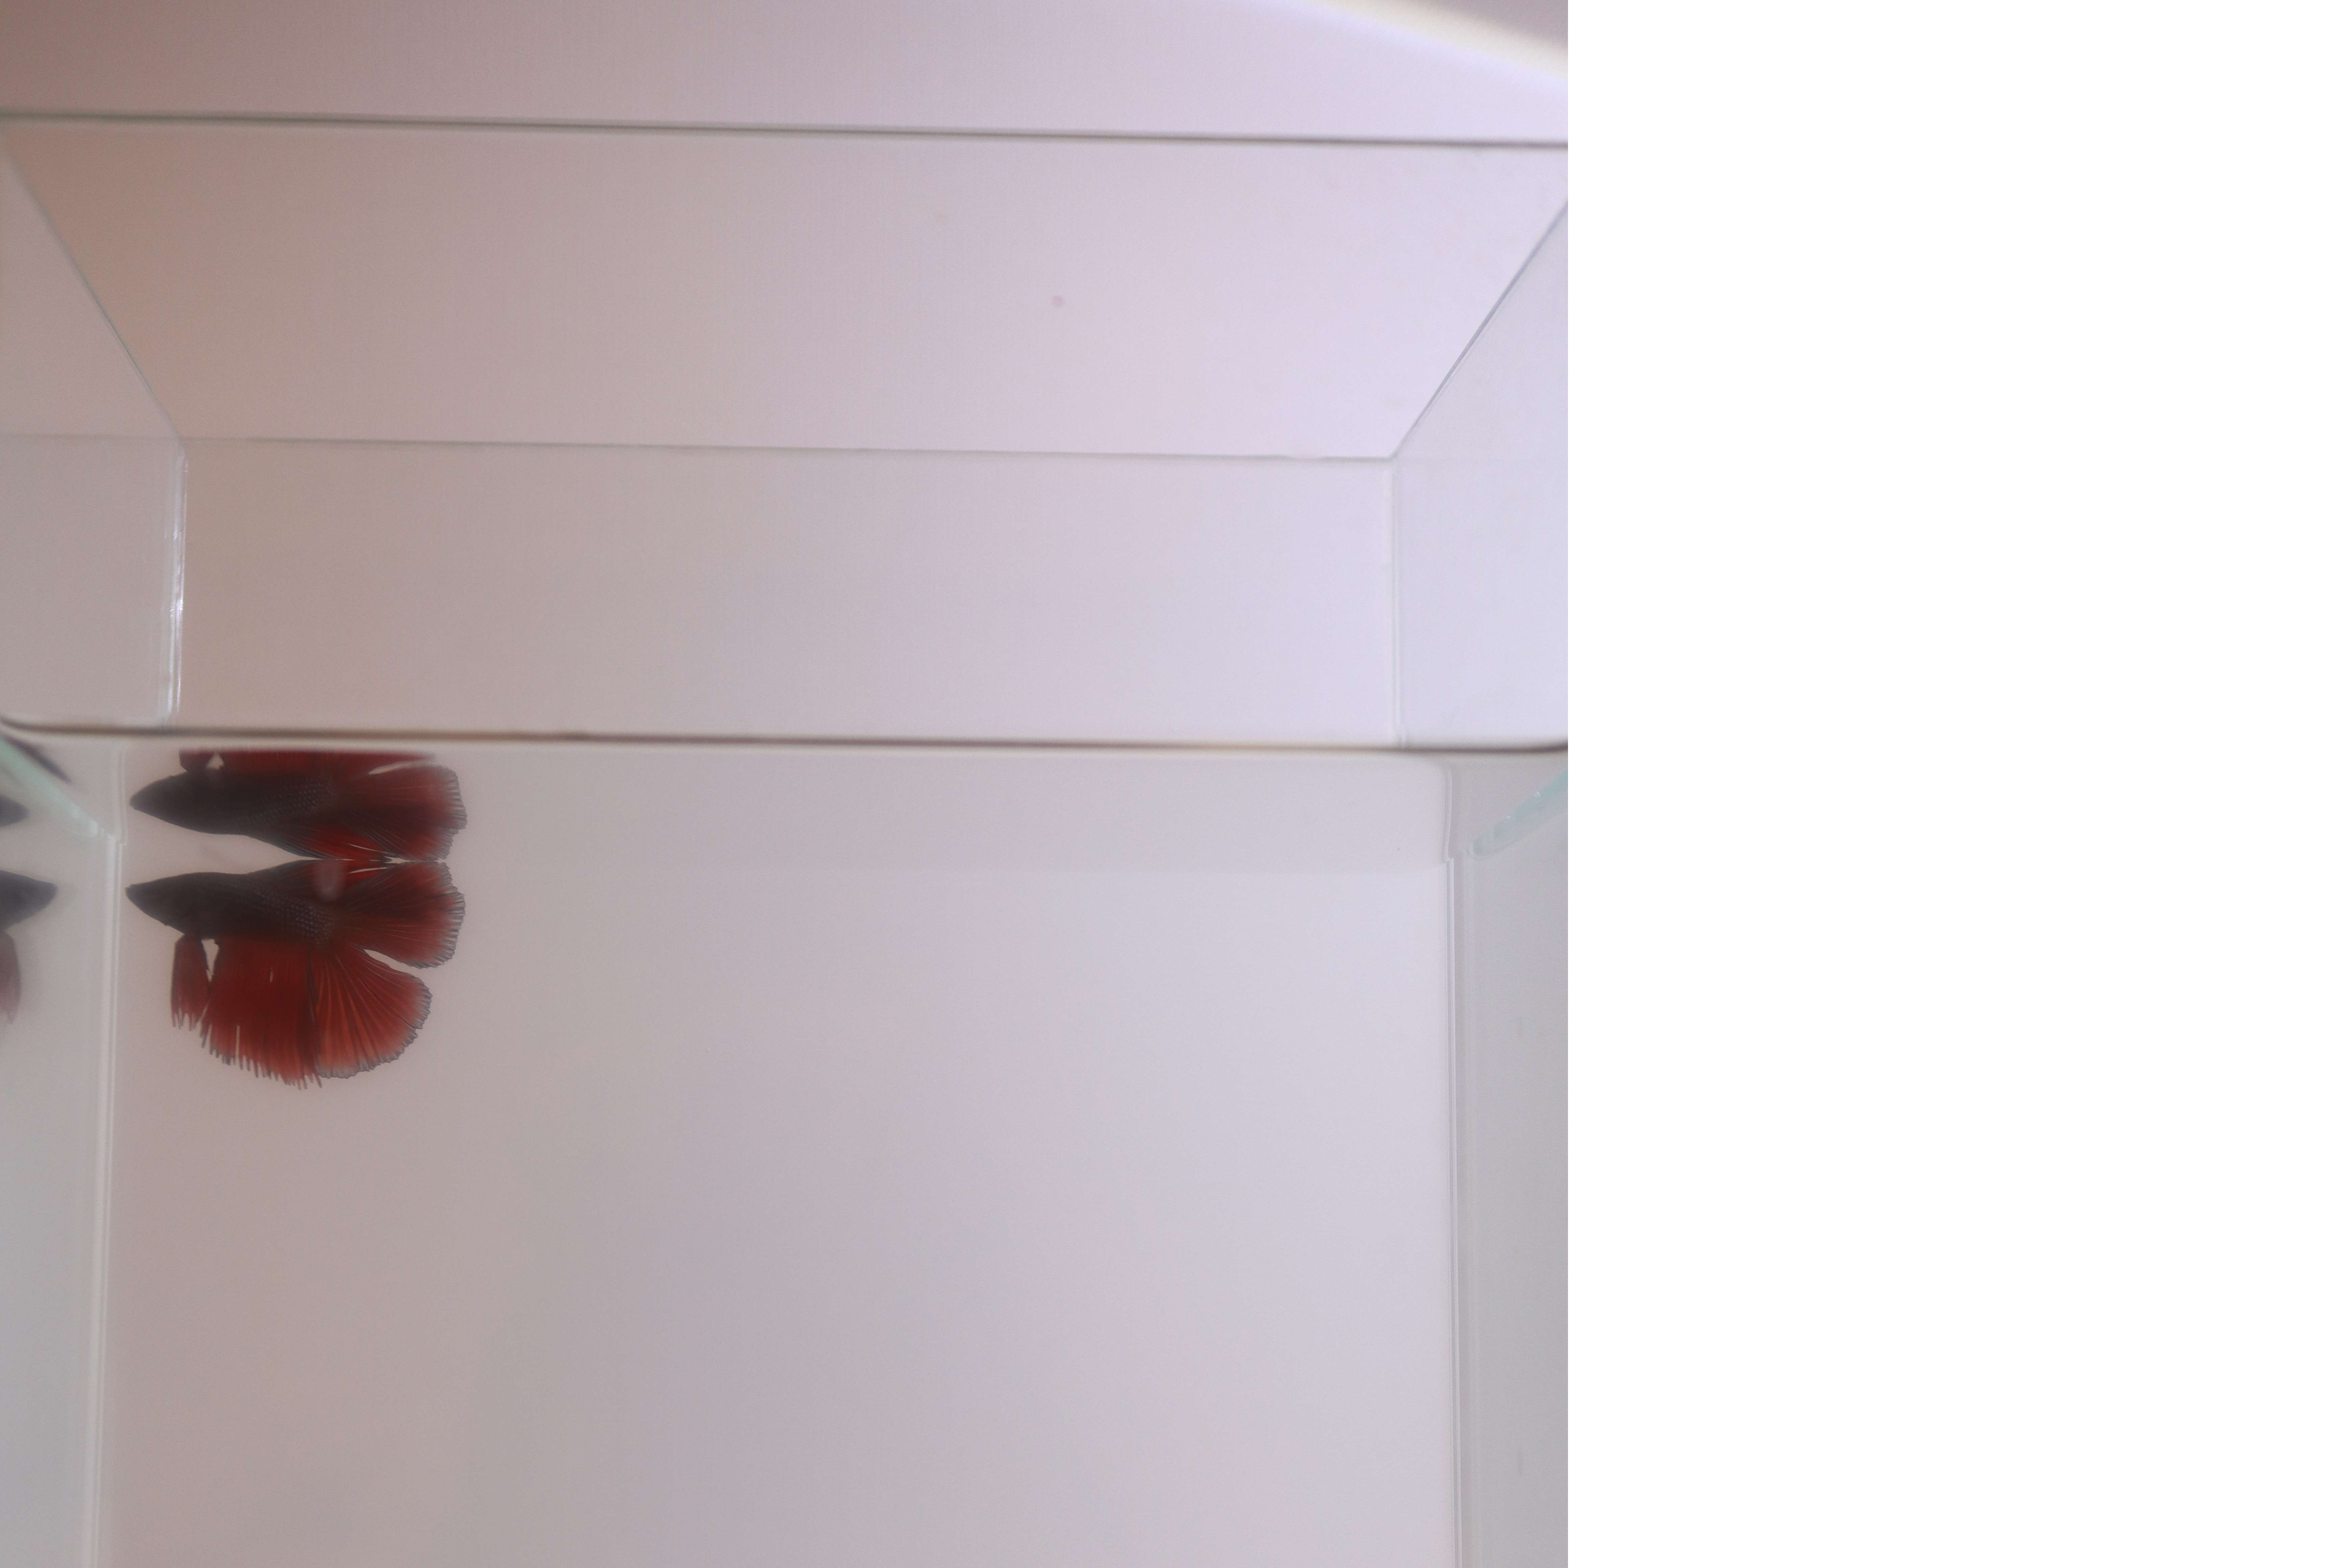fish: (122, 847, 481, 1089)
